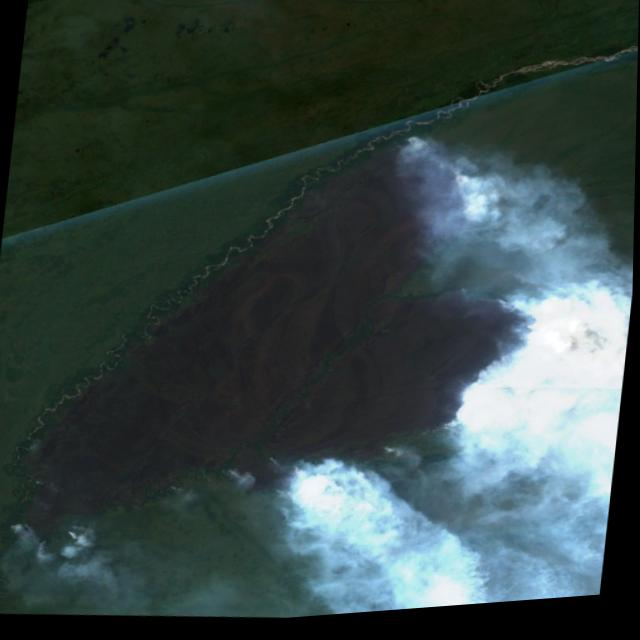fire: (439, 292, 558, 457), (378, 130, 496, 239), (262, 456, 333, 517)
